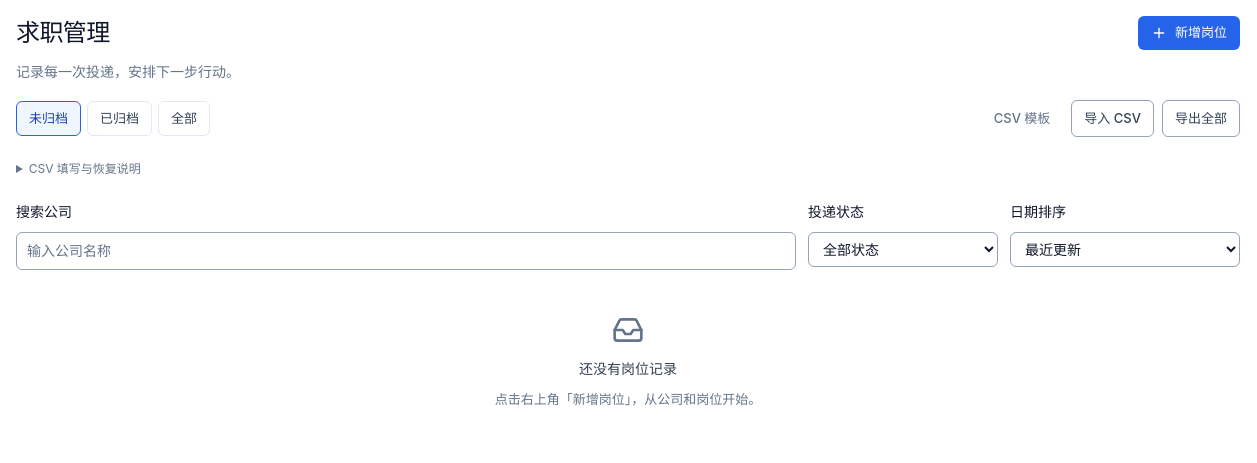
Test: 过期列表响应不能覆盖最新筛选结果，加载时有明确提示
Type "旧" into the search field with id "job-search".
click(406, 251); type("旧")  # box [16,232,796,270]
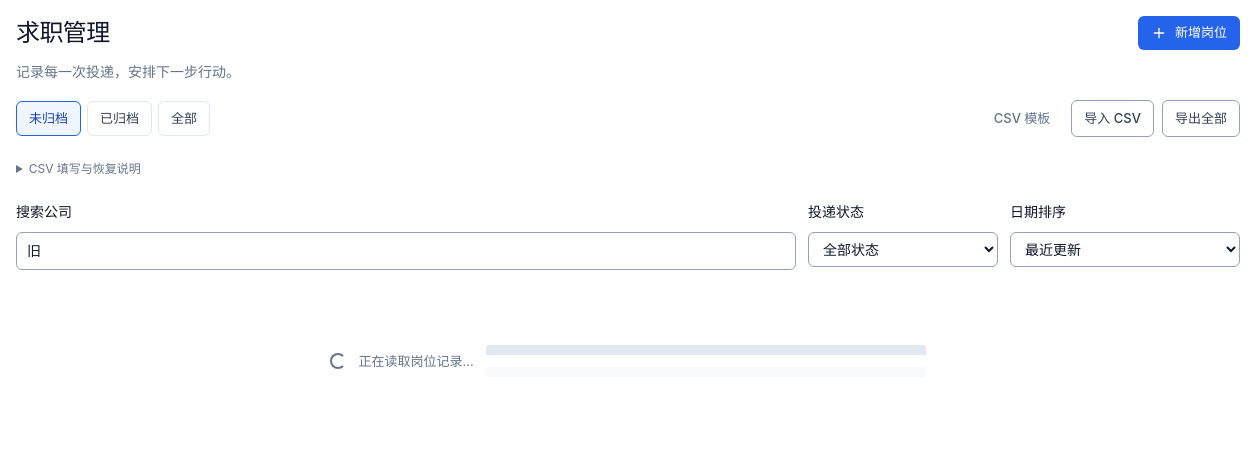
Check: the text "正在读取岗位记录" is shown, box [358,353,474,369]
Replace the text in the search field with id "job-search" with "新" at (406, 251), box [16,232,796,270]
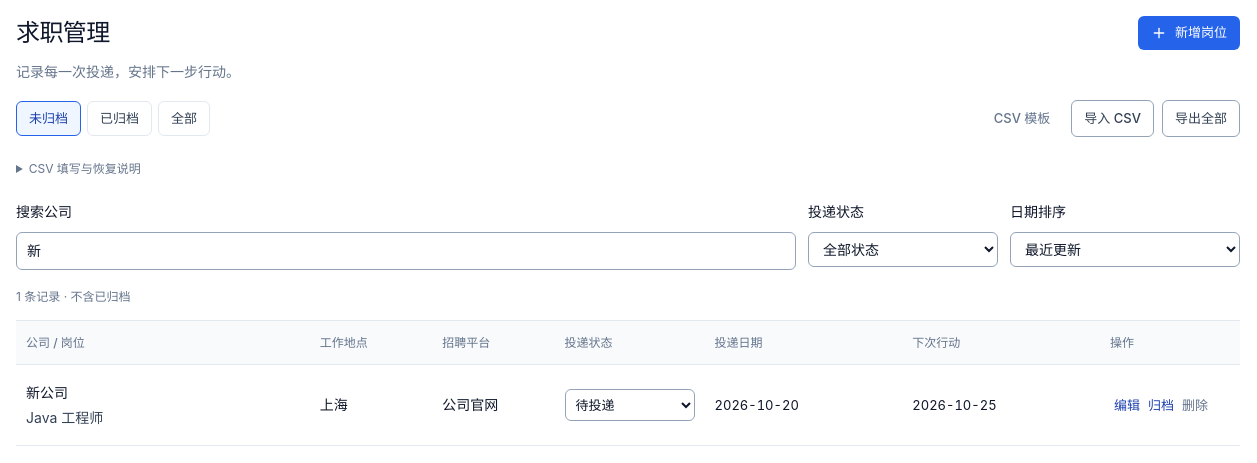
Check: the text "新公司" is shown, box [26,384,68,401]
